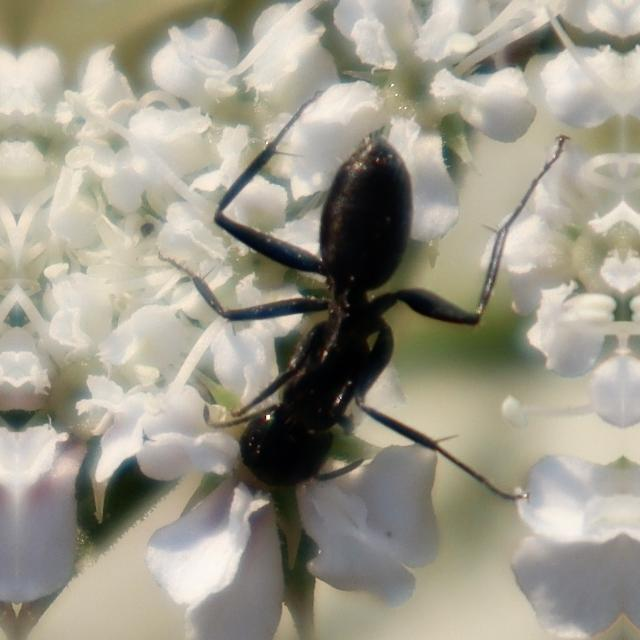Camponotus: (166, 109, 498, 542)
